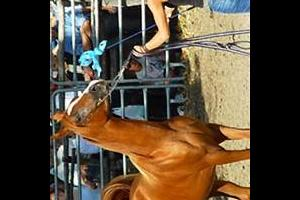horse: (50, 78, 249, 200)
